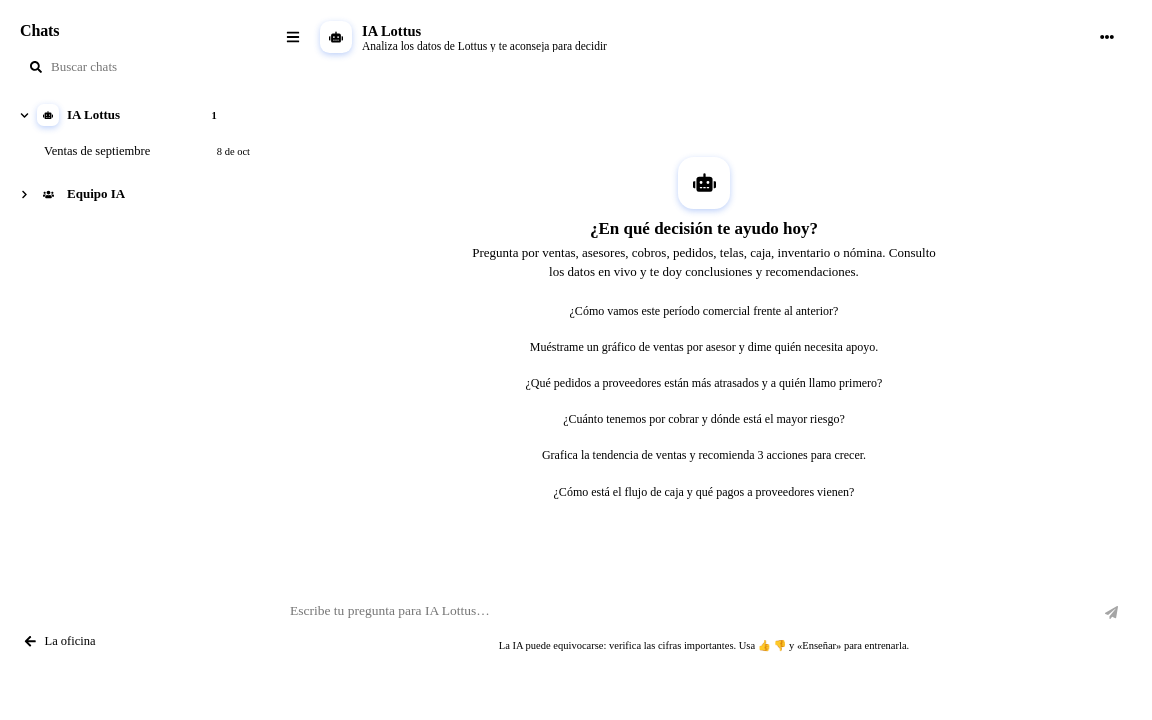
Test: Chat: asesor gerencial › abre una conversación guardada
What coordinates should you click on to do the following:
click the button "Ventas de septiembre 8 de oct"
I would click on:
 (147, 151)
Its box is [36,135,258,167].
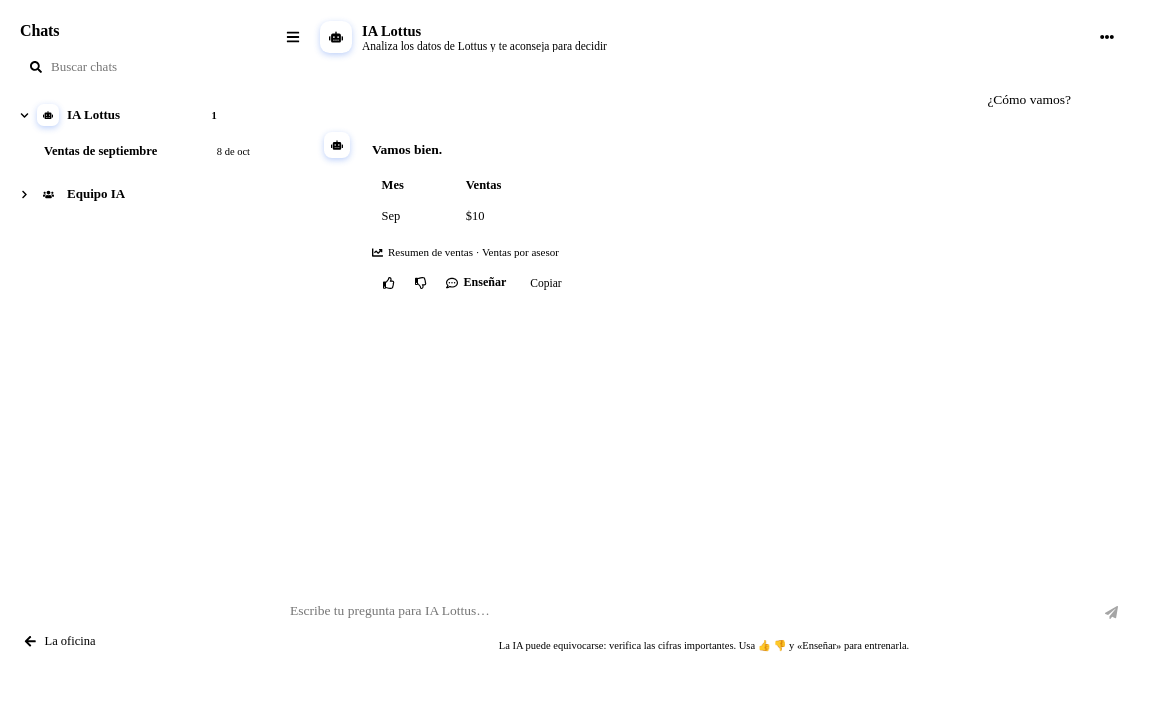
Now the text "¿Cómo vamos?" is shown, box [987,92,1071,107]
Now the text "Vamos bien." is shown, box [372,142,442,157]
